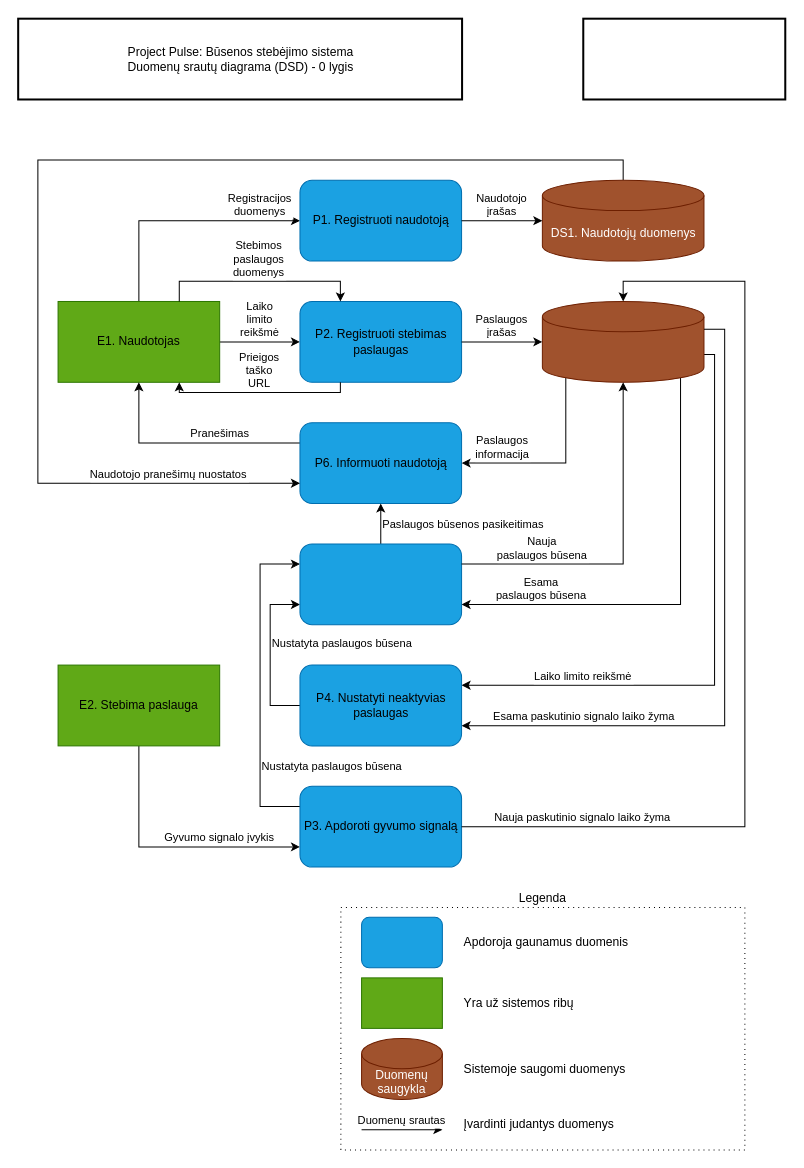
The diagram is 804 pixels wide and 1168 high, and some of its shapes have lost their labels. Here are the shapes that lost their labels. From the top down, the centre of each, then its label:
At point (684, 58): "VU / MIF / ISI / 2026 - I kursas 2 gr., Dmitrij Kosmakov 2026.09.16".
At point (622, 341): "DS2. Stebimų paslaugų registras".
At point (380, 584): "P5. Atnaujinti paslaugos būseną".
At point (401, 942): "Procesas".
At point (401, 1002): "Išorinė esybė".
